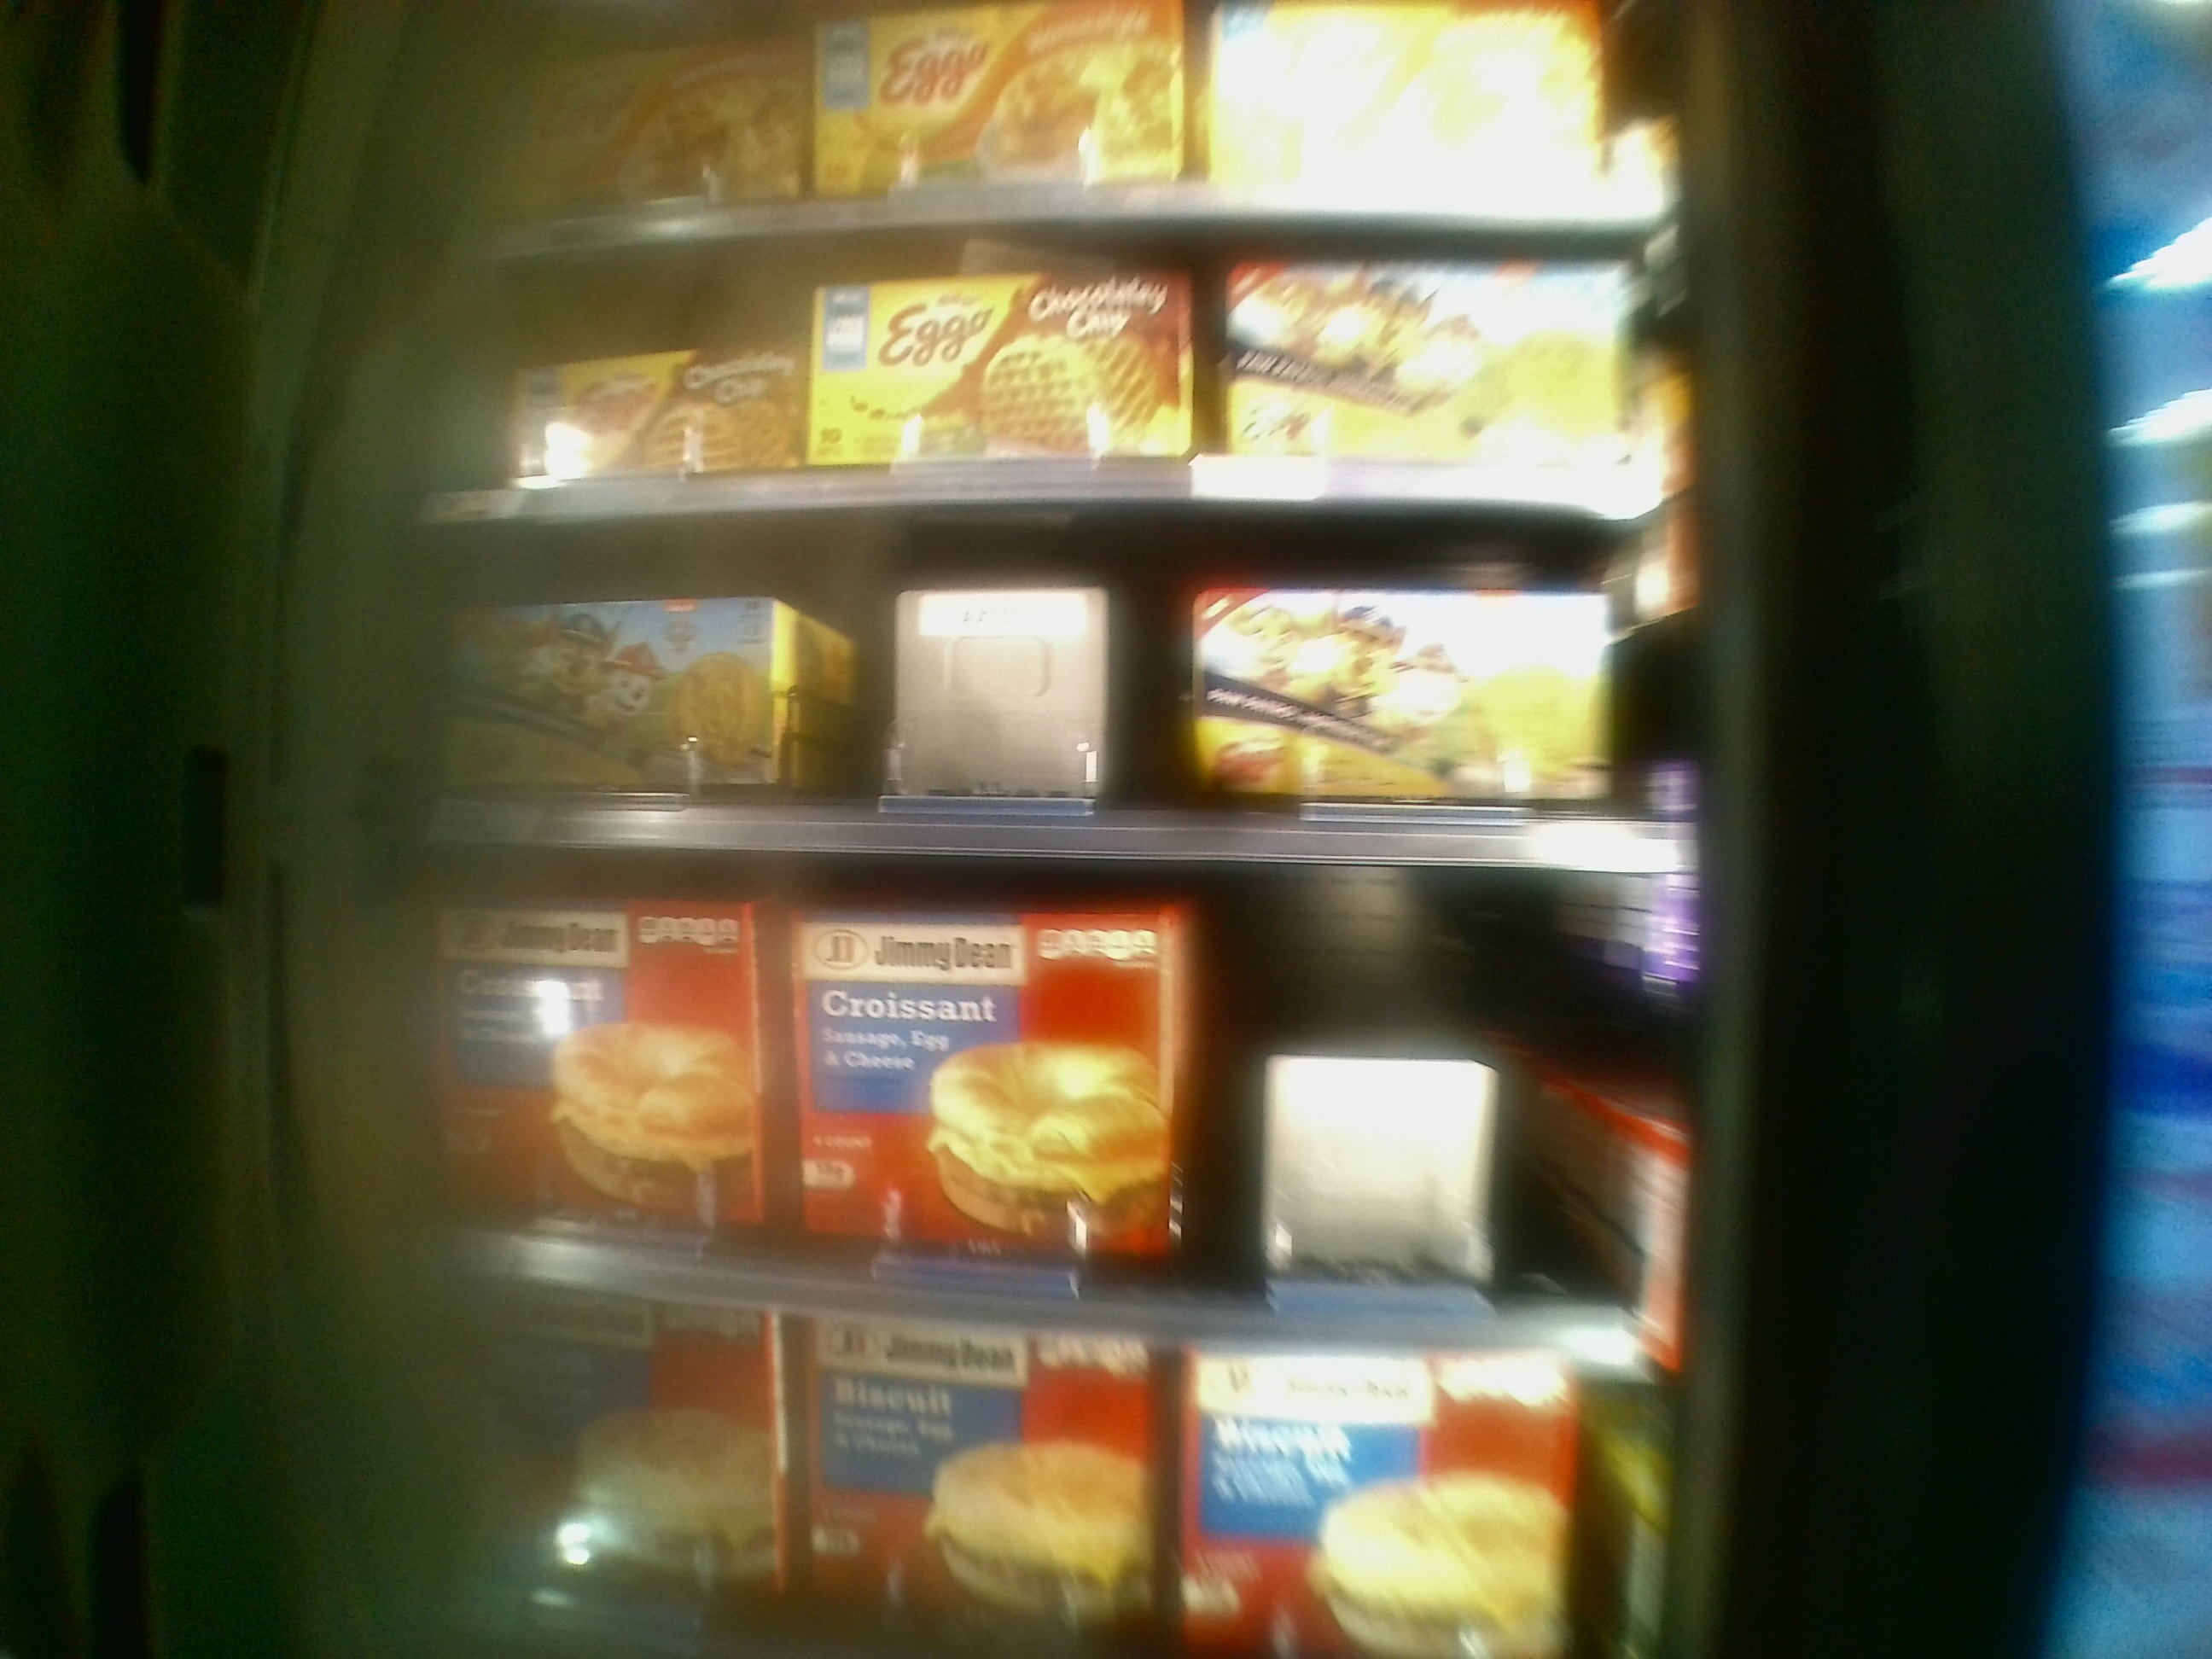shelf: (416, 847, 1702, 1382), (425, 502, 1709, 871), (432, 237, 1712, 505)
